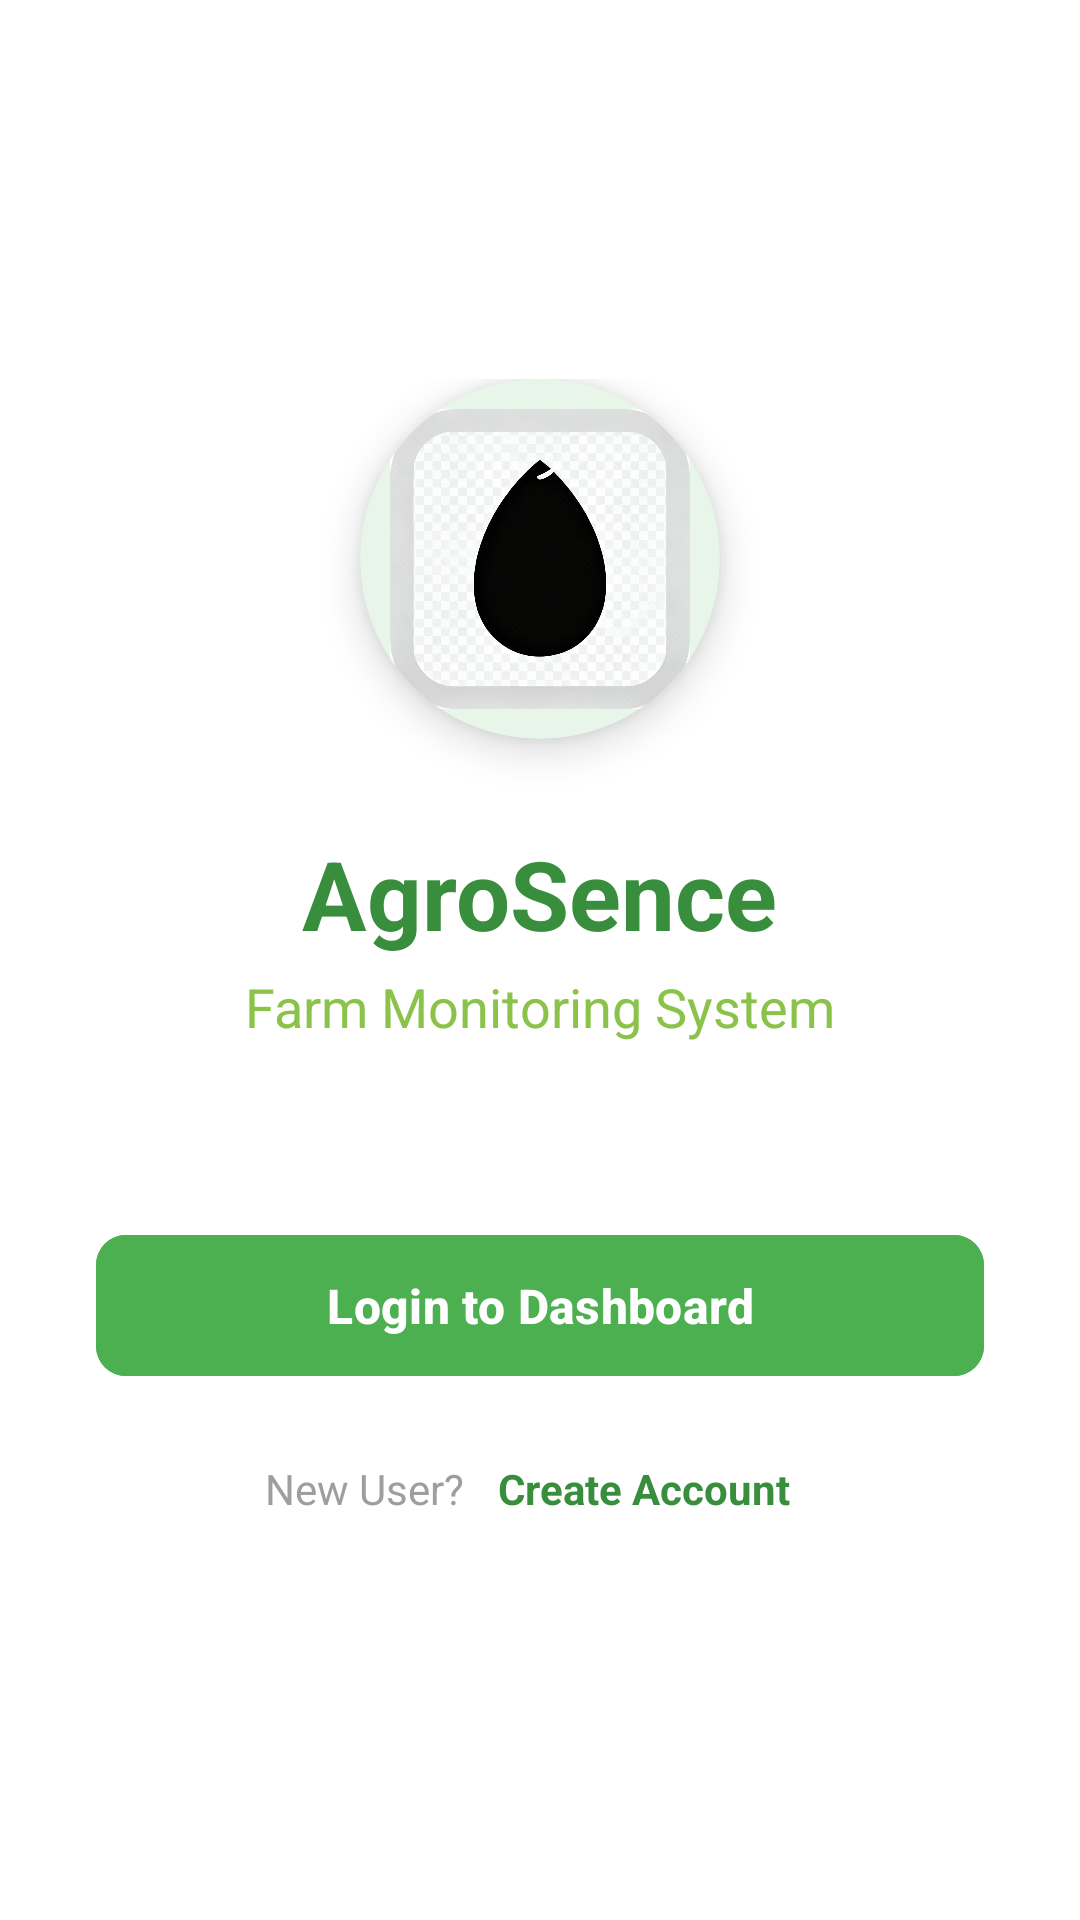

Named icons in this screenshot (1080×1920) and their centers, (x,y):
seed: (540,559)
